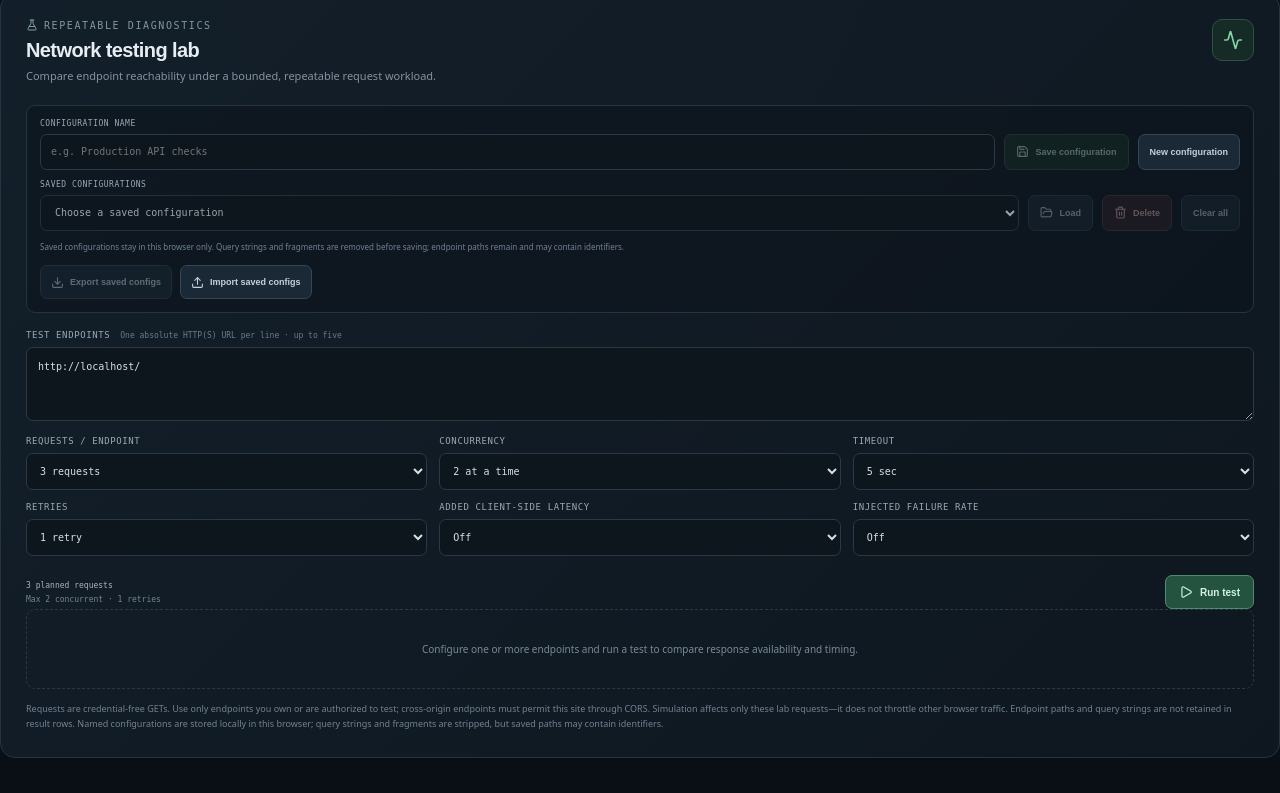
Scenario: NetworkTestLab › publishes completed lab results to the parent diagnostics session
Click the button "Run test". click: click(1210, 592)
box: [1165, 575, 1254, 609]
(page scrolled)
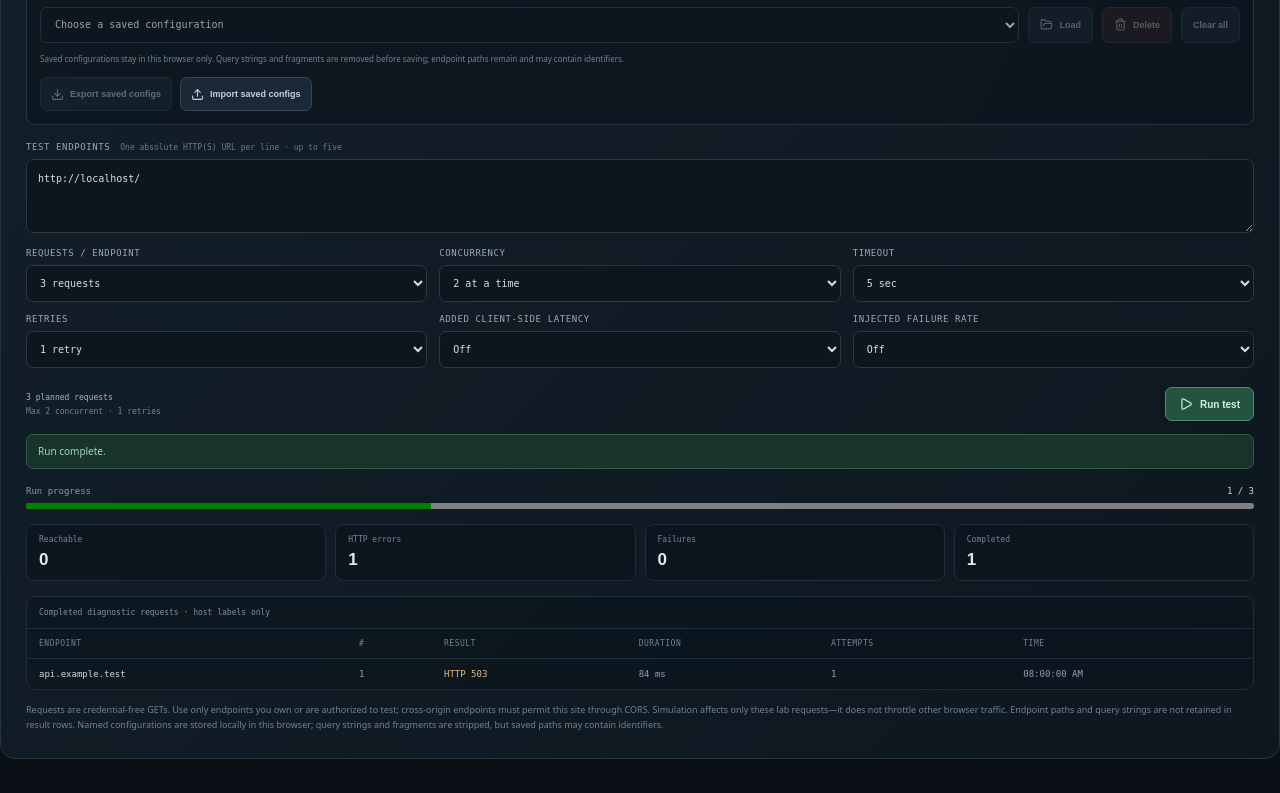
Expected: the text "HTTP 503" is shown, [444, 669, 487, 679]
